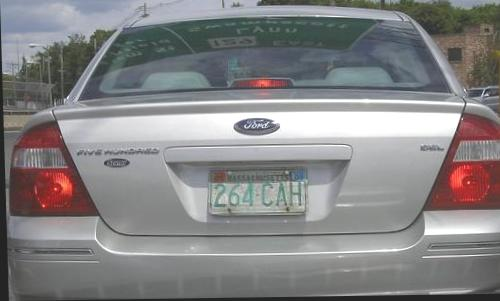License_Plate: (204, 159, 318, 225)
